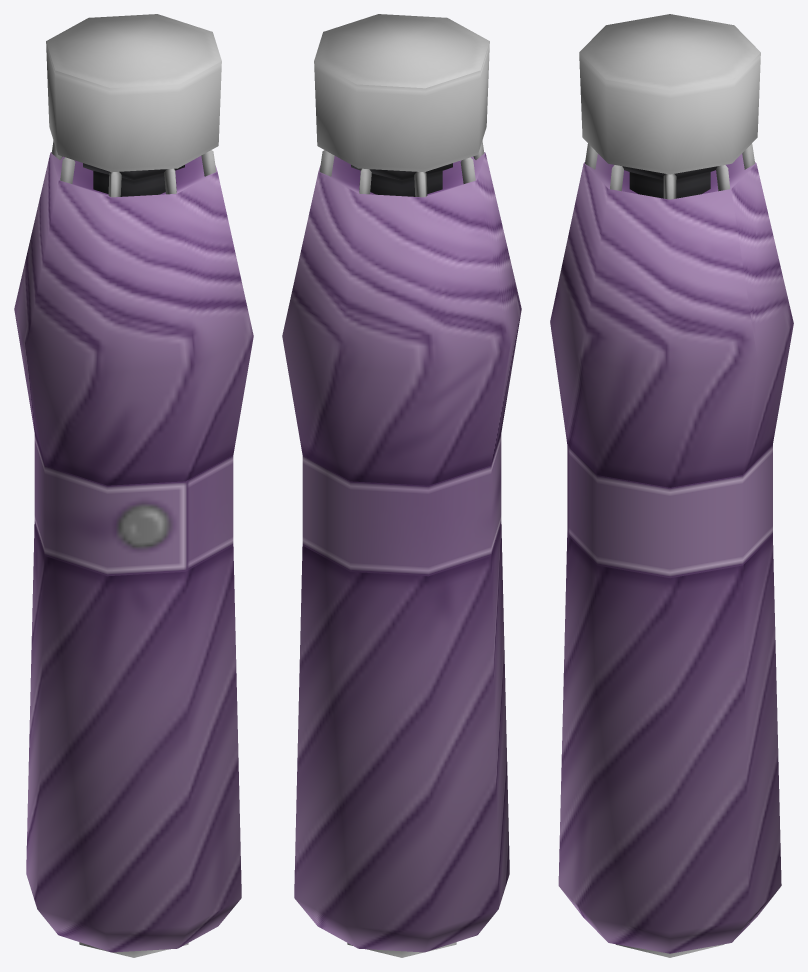
Rendered from set_foldingumbrella_04.fbx.
3 views of the same model, side by side, from view 1: azimuth 30°, elevation 25°; view 2: azimuth 150°, elevation 25°; view 3: azimuth 270°, elevation 25° (orthographic).
Parts seen in each view (by area): view 1: foldingumbrella_04, handle_04; view 2: foldingumbrella_04, handle_04; view 3: foldingumbrella_04, handle_04.
Boxes of the visible parts, x1,y1,x2,y2 form: foldingumbrella_04: (14,140,253,957); handle_04: (46,14,221,172); foldingumbrella_04: (282,140,521,957); handle_04: (314,14,489,172); foldingumbrella_04: (550,143,793,957); handle_04: (579,14,760,174).
Bounding box in the file's own units: 5.4 × 21.37 × 5.31.
